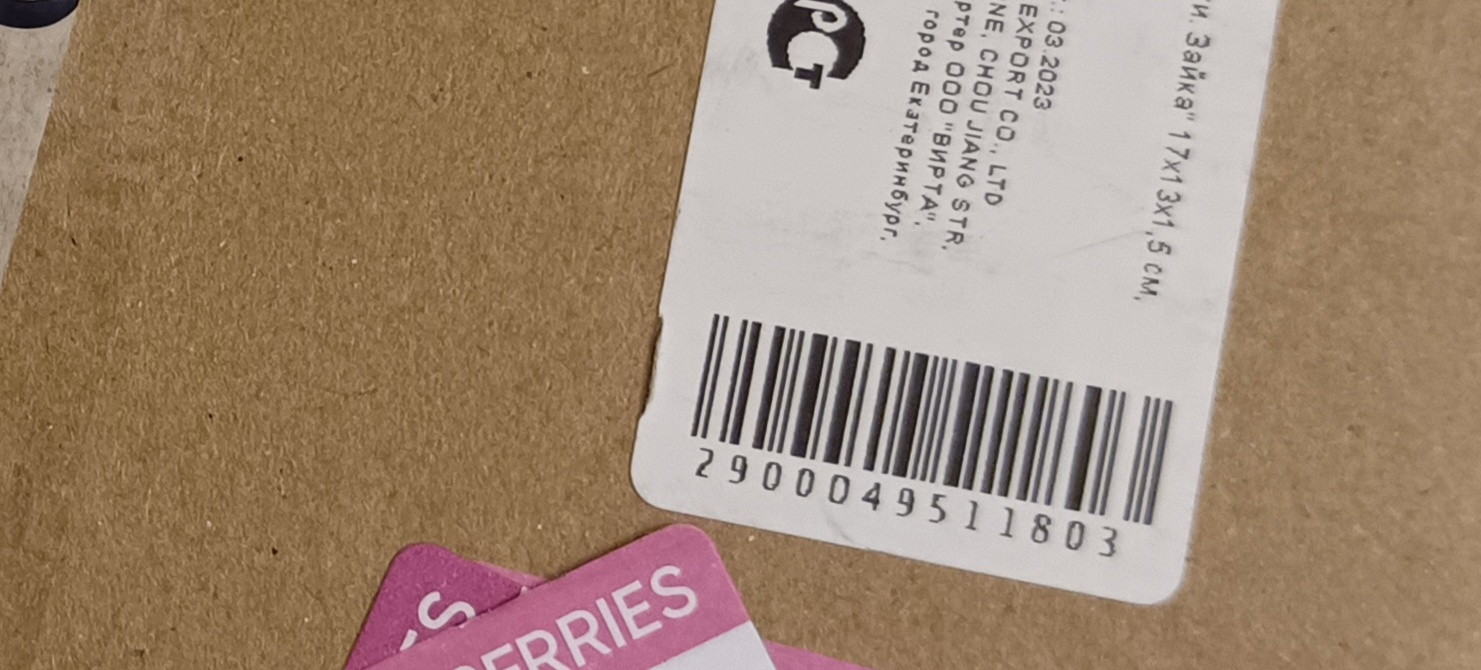1d: (680, 300, 1176, 534)
